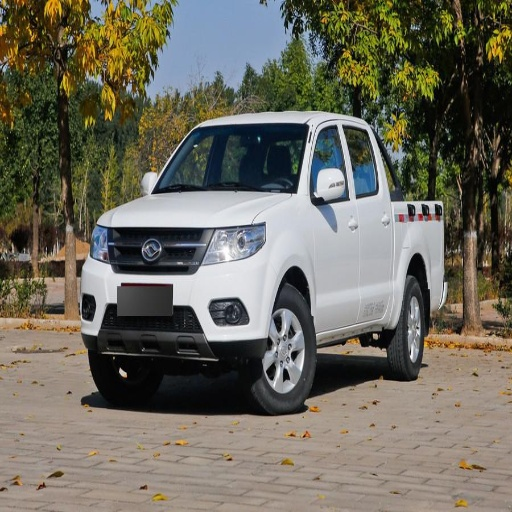back_glass: (343, 121, 388, 319)
back_right_light: (77, 226, 280, 361)
front_bumper: (152, 127, 308, 193)
front_glass: (310, 122, 362, 329)
front_left_door: (204, 222, 266, 264)
front_right_light: (102, 194, 292, 225)
tailgate: (393, 200, 451, 308)
trunk: (246, 284, 316, 414), (89, 352, 158, 406), (388, 279, 425, 379)
